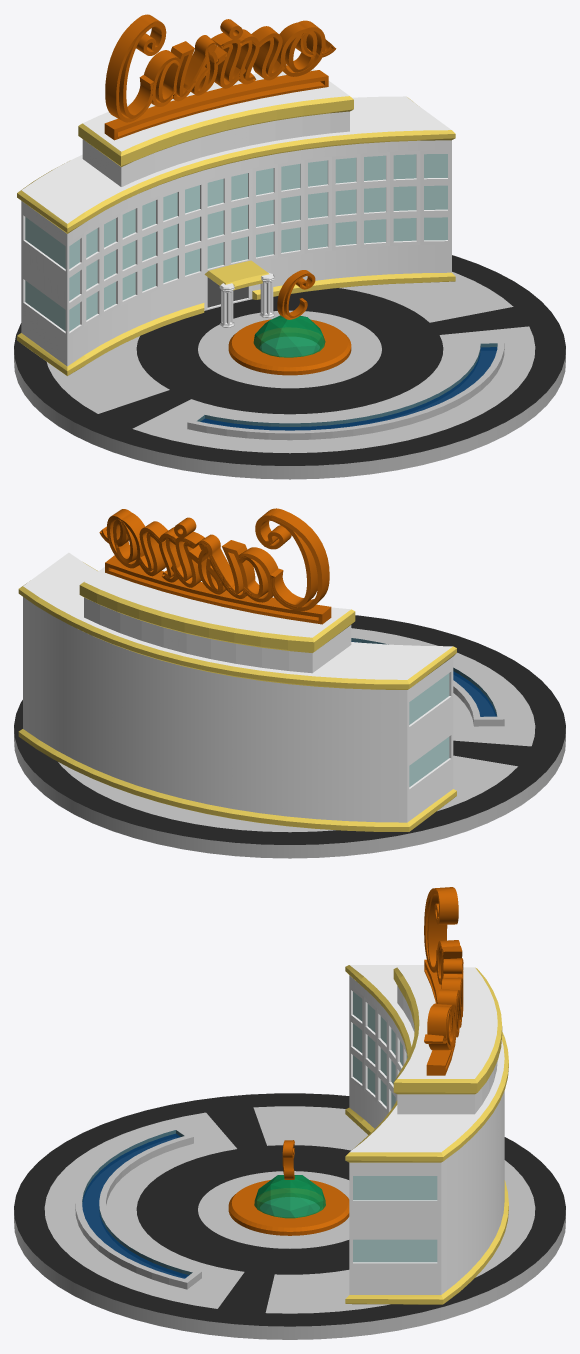
The model's file is casino.glb.
3 views of the same model, one above another, from view 1: azimuth 30°, elevation 25°; view 2: azimuth 150°, elevation 25°; view 3: azimuth 270°, elevation 25° (orthographic).
Visible parts, largest first — view 1: Box001_8ba17e, Box001_cd1503, Box001_832c4f, Box001, Box001_25ca5b, Box001_70e546, Box001_03c0fa, Box001_272cec, Box001_9e0f49; view 2: Box001_8ba17e, Box001_cd1503, Box001, Box001_832c4f, Box001_70e546, Box001_25ca5b, Box001_272cec; view 3: Box001_cd1503, Box001_832c4f, Box001_8ba17e, Box001, Box001_70e546, Box001_25ca5b, Box001_03c0fa, Box001_272cec, Box001_9e0f49.
Part boxes in pixels (x1=…): Box001_8ba17e: x1=21, y1=69, x2=451, y2=366; Box001_cd1503: x1=14, y1=272, x2=565, y2=479; Box001_832c4f: x1=14, y1=255, x2=565, y2=465; Box001: x1=104, y1=14, x2=351, y2=375; Box001_25ca5b: x1=25, y1=154, x2=447, y2=331; Box001_70e546: x1=17, y1=96, x2=455, y2=375; Box001_03c0fa: x1=253, y1=314, x2=325, y2=357; Box001_272cec: x1=201, y1=347, x2=497, y2=430; Box001_9e0f49: x1=197, y1=343, x2=497, y2=426; Box001_8ba17e: x1=23, y1=552, x2=453, y2=822; Box001_cd1503: x1=14, y1=628, x2=565, y2=858; Box001: x1=99, y1=508, x2=331, y2=624; Box001_832c4f: x1=14, y1=615, x2=565, y2=844; Box001_70e546: x1=18, y1=562, x2=456, y2=831; Box001_25ca5b: x1=409, y1=673, x2=449, y2=786; Box001_272cec: x1=351, y1=641, x2=496, y2=716; Box001_cd1503: x1=14, y1=1106, x2=565, y2=1339; Box001_832c4f: x1=14, y1=1093, x2=565, y2=1326; Box001_8ba17e: x1=349, y1=965, x2=504, y2=1294; Box001: x1=228, y1=887, x2=463, y2=1235; Box001_70e546: x1=345, y1=965, x2=508, y2=1304; Box001_25ca5b: x1=353, y1=992, x2=437, y2=1262; Box001_03c0fa: x1=254, y1=1175, x2=325, y2=1218; Box001_272cec: x1=82, y1=1133, x2=188, y2=1278; Box001_9e0f49: x1=82, y1=1130, x2=192, y2=1275.
Bounding box in the file's own units: 176 × 107 × 177.
